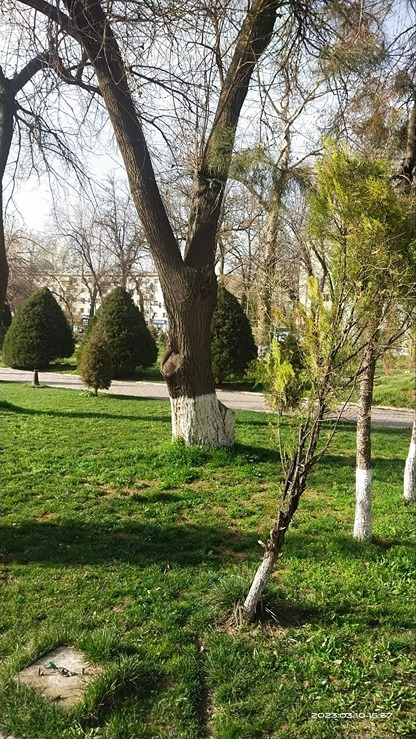tree: (1, 0, 278, 408), (319, 149, 408, 527), (73, 288, 151, 403), (7, 279, 67, 394)
